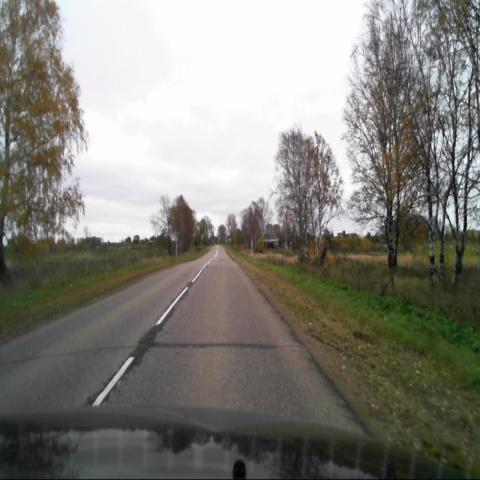2_3_3: (283, 211, 290, 223)
